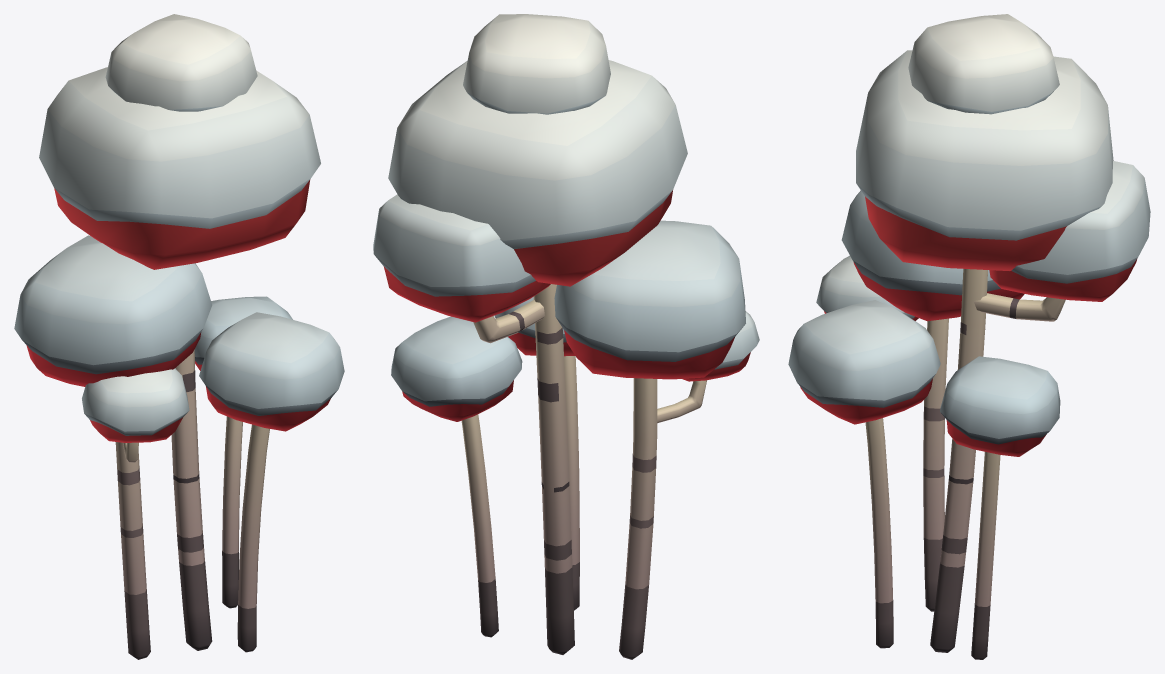
The model's file is birch_tree_col3_07_snow.fbx.
3 renders of one model, left to right at view 1: azimuth 30°, elevation 25°; view 2: azimuth 150°, elevation 25°; view 3: azimuth 270°, elevation 25°, orthographic. The views are drawn at different scales.
Parts seen in each view (by area): view 1: birch_tree_col3_07_snow; view 2: birch_tree_col3_07_snow; view 3: birch_tree_col3_07_snow.
Boxes of the visible parts, x1=… form: birch_tree_col3_07_snow: x1=14, y1=14, x2=344, y2=659; birch_tree_col3_07_snow: x1=373, y1=14, x2=759, y2=659; birch_tree_col3_07_snow: x1=788, y1=14, x2=1150, y2=659.
Size of the model in its own units: 345 by 678 by 358.
Materials: 1 (1 with a texture image).
